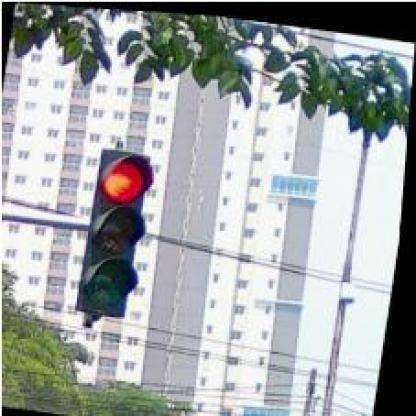red: (77, 146, 158, 316)
